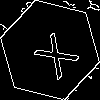X: (25, 25, 81, 80)
